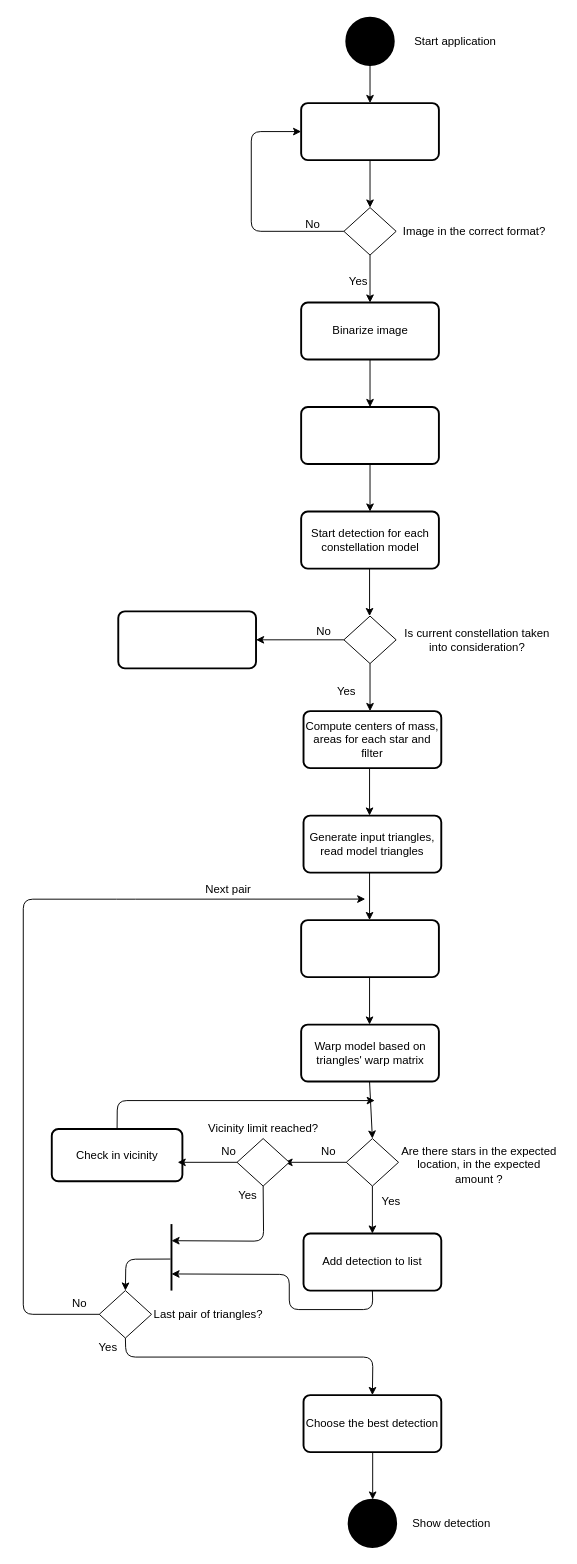
Image size: 577x1564. Some labels were removed from this diagram. Here are the shapes that lost their labels. From the top down, the box of each, then its label:
(300, 102, 439, 161): Ask for image
(300, 406, 439, 465): Label stars in image
(117, 610, 256, 669): Skip detection
(300, 919, 439, 978): Compare triangles and find match
